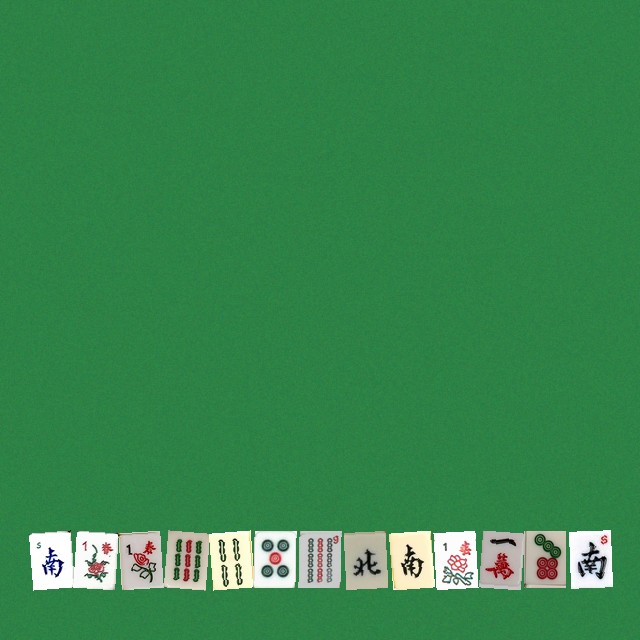tile: (28, 530, 70, 587), (73, 530, 115, 587), (118, 530, 160, 587), (163, 530, 205, 587), (208, 530, 250, 587), (253, 530, 295, 587), (298, 530, 340, 587), (343, 530, 385, 587), (388, 530, 430, 587), (433, 530, 475, 587), (478, 530, 520, 587), (523, 530, 565, 587), (568, 530, 610, 587)
